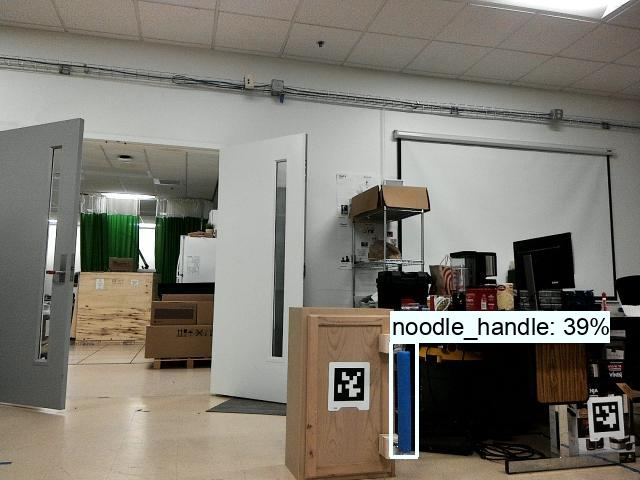noodle_handle: (392, 344, 414, 458)
